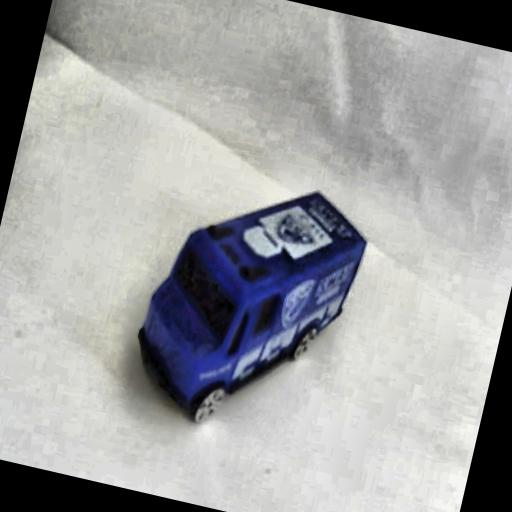police car: (123, 152, 384, 458)
